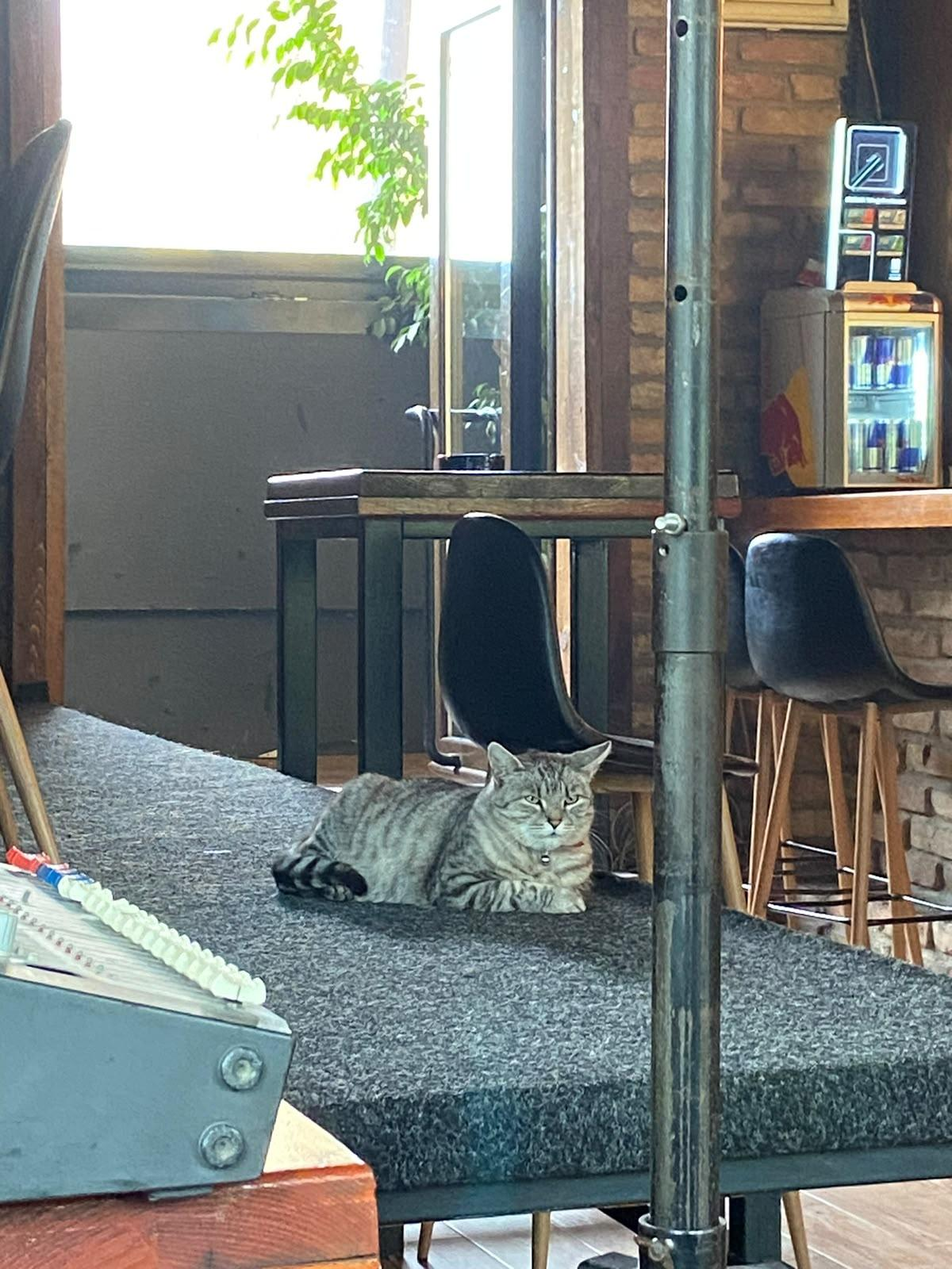macka: (272, 739, 613, 915)
